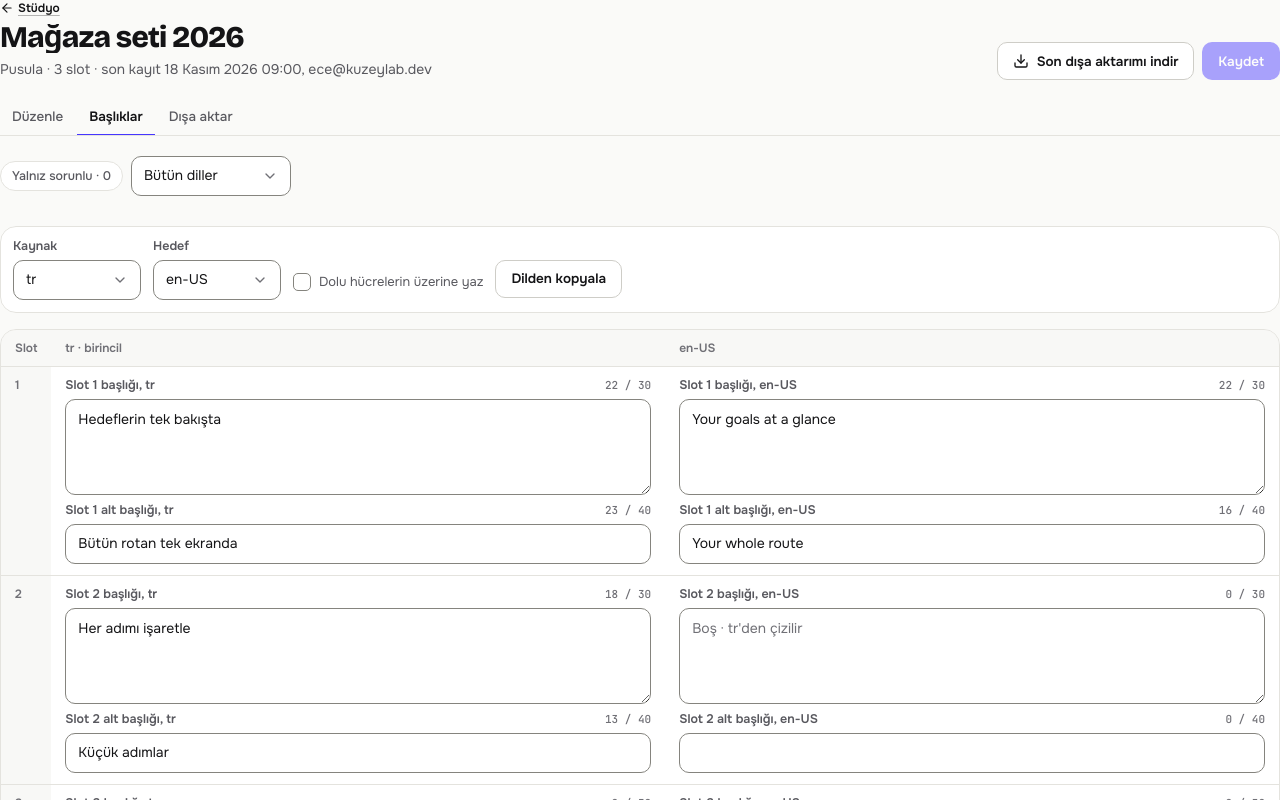
Test case: template editor: captions › narrows the grid to the problem rows
Type "!" into the text box labelled "Slot 2 başlığı, tr" at x=358, y=656, box left=65, top=608, right=651, bottom=704
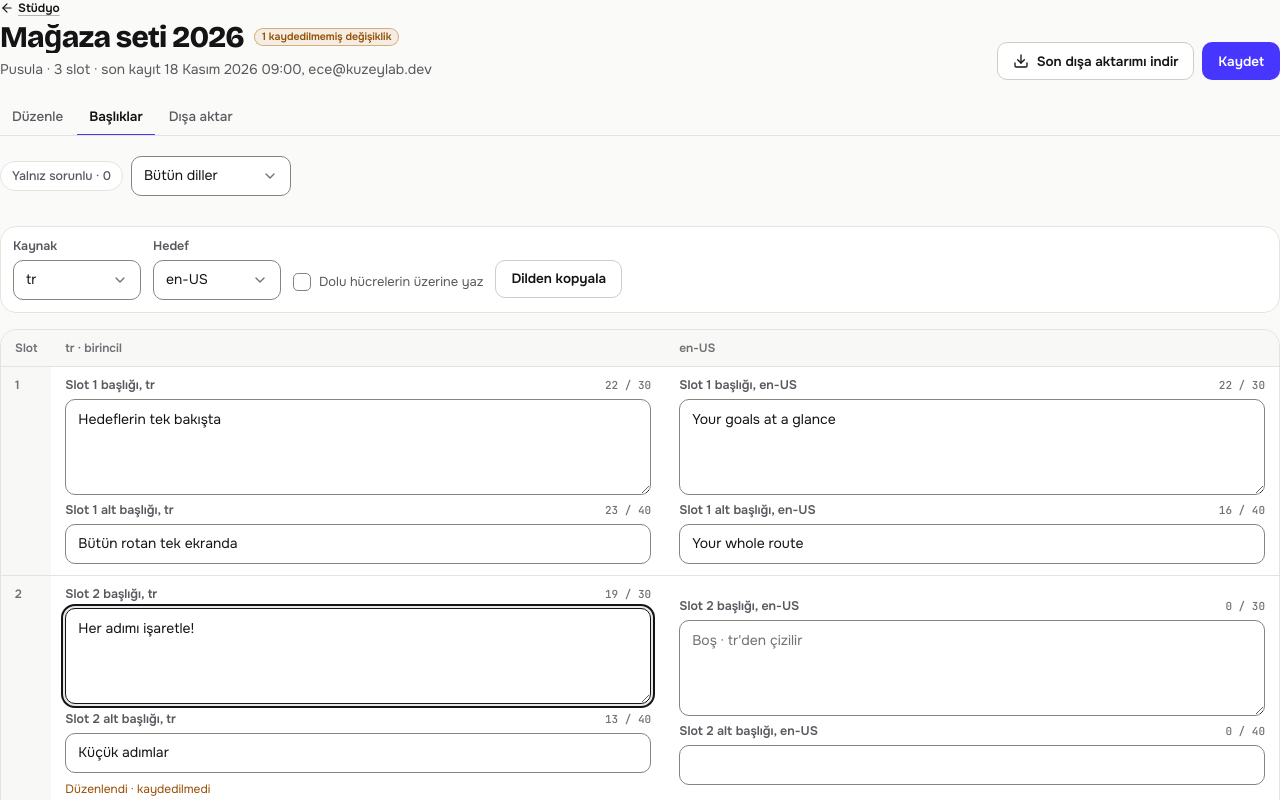
Click the button "Kaydet" at x=1241, y=61, box left=1202, top=42, right=1279, bottom=80
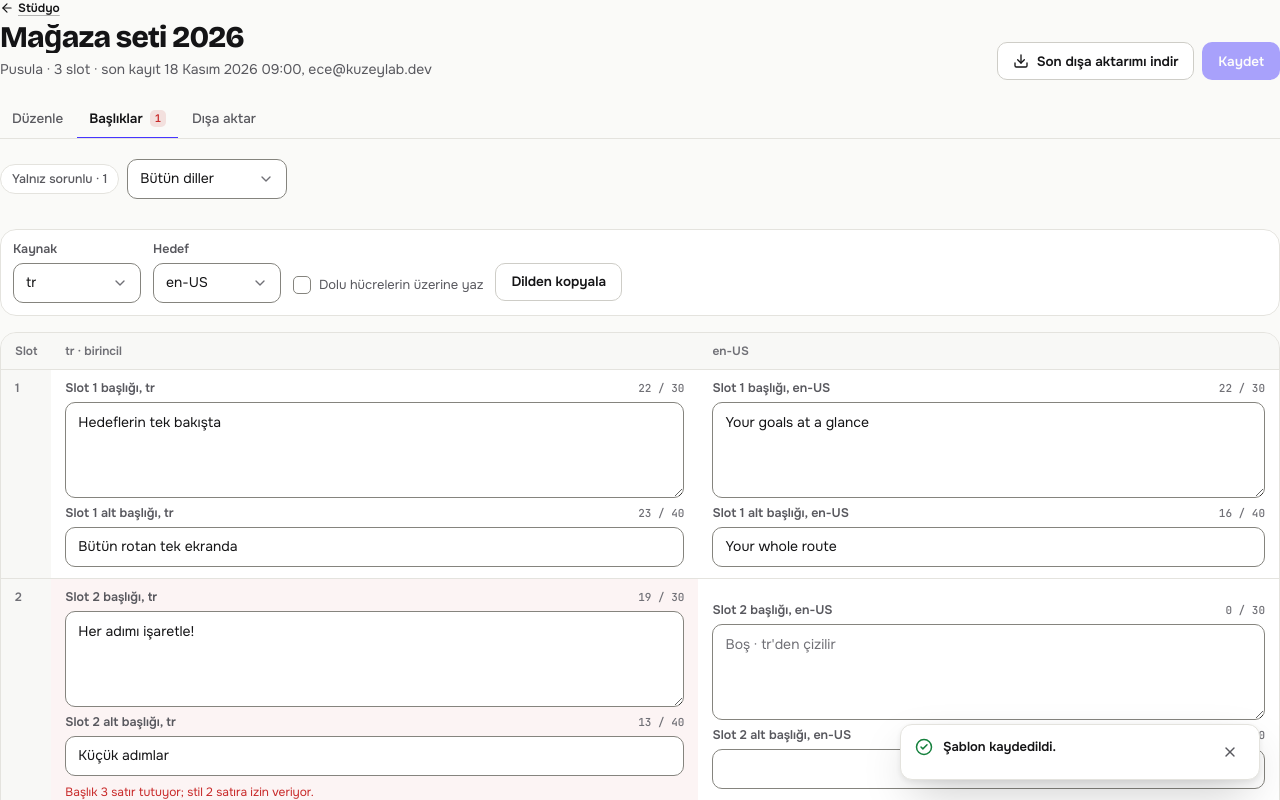
expect the text "Başlık 3 satır tutuyor; stil 2 satıra izin veriyor." is shown: met, box left=65, top=784, right=314, bottom=799
Click the button "Yalnız sorunlu · 1" at x=60, y=179, box left=0, top=164, right=119, bottom=194
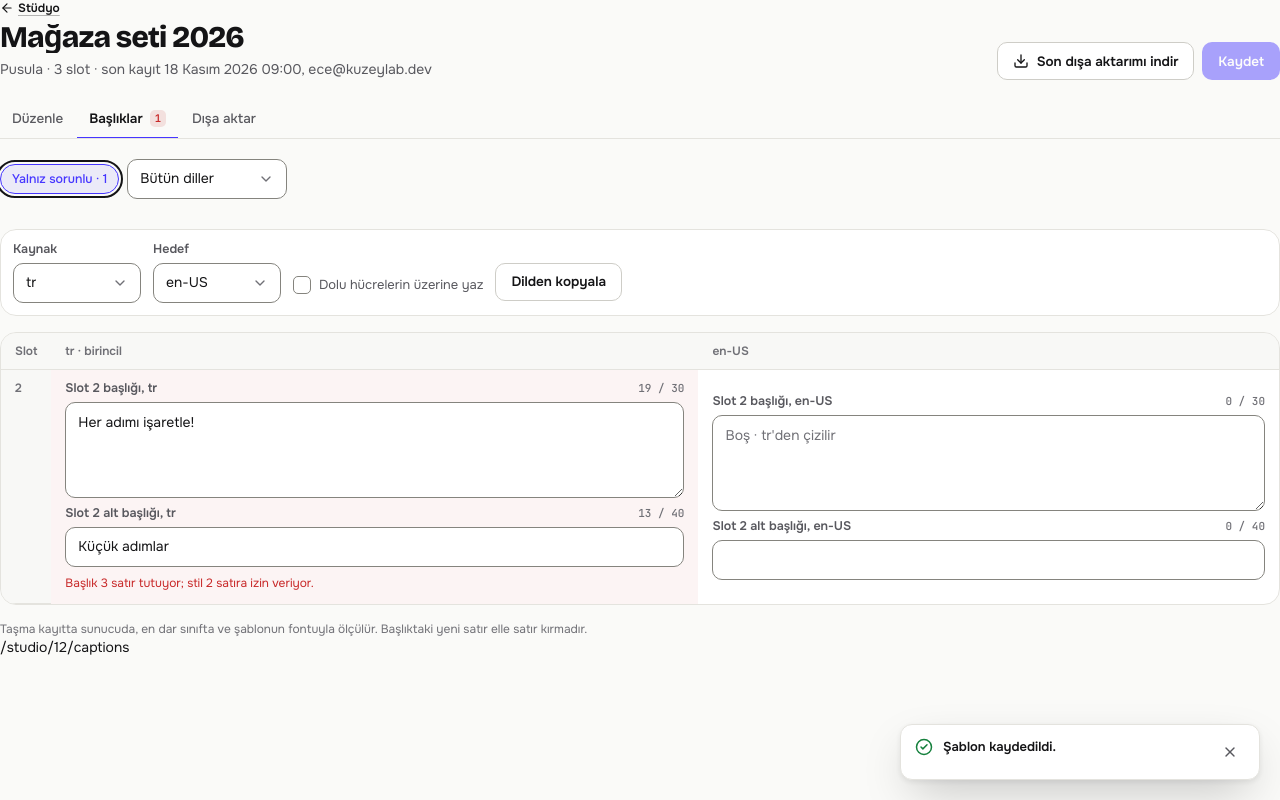
expect the text box labelled "Slot 2 başlığı, tr" is shown: met, box left=65, top=402, right=684, bottom=498
expect the label labelled "Slot 1 başlığı, tr" is gone: met
